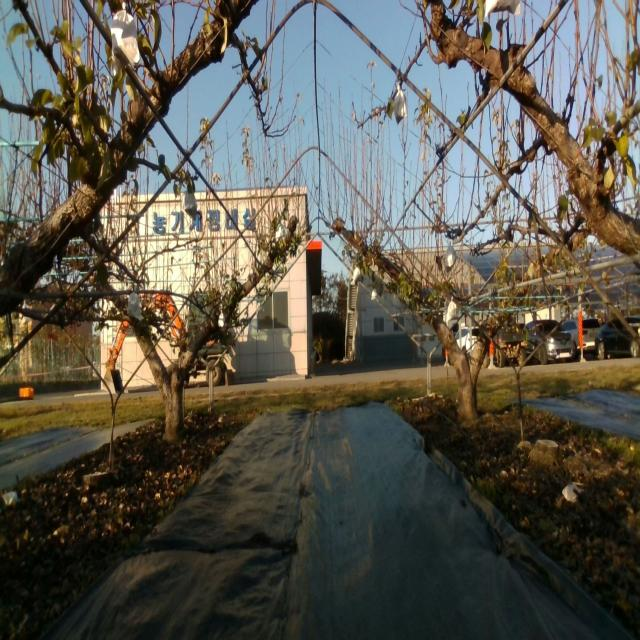pearbags: (110, 2, 140, 68), (394, 84, 407, 126), (127, 293, 144, 322), (182, 190, 198, 220), (444, 243, 456, 274), (446, 298, 458, 322)
